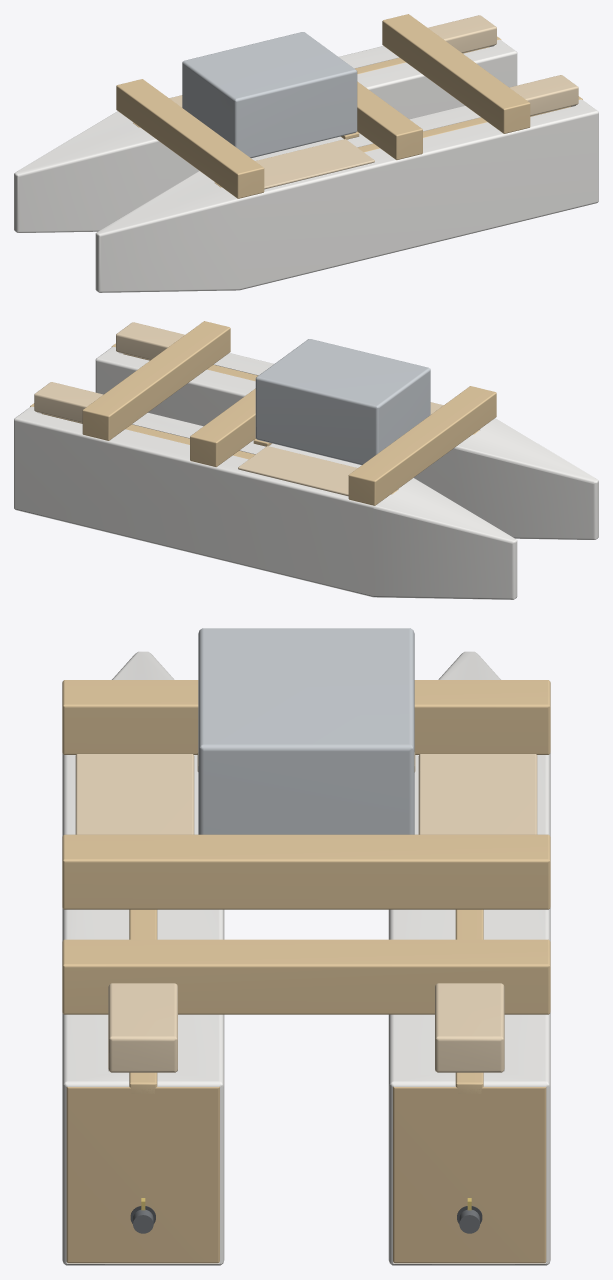
The model's file is sailsafe.glb.
3 renders of one model, top to bottom at view 1: azimuth 30°, elevation 25°; view 2: azimuth 150°, elevation 25°; view 3: azimuth 270°, elevation 25°, orthographic. The views are drawn at different scales.
Parts seen in each view (by area): view 1: casco_esquerdo, casco_direito, caixa_IP66, travessa_T1, travessa_T3, escotilha_esq, travessa_T2, cobertura_ESC_esq, cobertura_ESC_dir, longarina_re_esq, longarina_re_dir; view 2: casco_direito, casco_esquerdo, caixa_IP66, travessa_T1, travessa_T3, escotilha_dir, travessa_T2, cobertura_ESC_dir, cobertura_ESC_esq, longarina_re_dir, longarina_re_esq; view 3: caixa_IP66, travessa_T2, travessa_T3, transom_insert_esq, transom_insert_dir, travessa_T1, casco_direito, casco_esquerdo, escotilha_dir, escotilha_esq, cobertura_ESC_dir, cobertura_ESC_esq (+2 smaller).
Part boxes in pixels (box(x1,y1,x2,y2)): casco_esquerdo: box(95, 99, 598, 292); casco_direito: box(14, 39, 517, 232); caixa_IP66: box(182, 32, 357, 158); travessa_T1: box(116, 79, 264, 198); travessa_T3: box(382, 14, 530, 133); escotilha_esq: box(255, 139, 374, 189); travessa_T2: box(357, 81, 422, 160); cobertura_ESC_esq: box(509, 75, 578, 115); cobertura_ESC_dir: box(428, 15, 496, 52); longarina_re_esq: box(358, 96, 582, 152); longarina_re_dir: box(355, 36, 501, 74); casco_direito: box(14, 406, 517, 599); casco_esquerdo: box(95, 346, 598, 539); caixa_IP66: box(255, 339, 430, 465); travessa_T1: box(348, 386, 496, 505); travessa_T3: box(82, 321, 230, 440); escotilha_dir: box(238, 446, 357, 496); travessa_T2: box(190, 388, 255, 467); cobertura_ESC_dir: box(34, 382, 103, 422); cobertura_ESC_esq: box(116, 322, 184, 359); longarina_re_dir: box(30, 403, 254, 459); longarina_re_esq: box(111, 343, 257, 381); caixa_IP66: box(198, 628, 414, 834); travessa_T2: box(62, 834, 550, 909); travessa_T3: box(62, 939, 550, 1014); transom_insert_esq: box(66, 1086, 219, 1263); transom_insert_dir: box(393, 1086, 546, 1263); travessa_T1: box(62, 680, 550, 754); casco_direito: box(388, 651, 550, 1265); casco_esquerdo: box(62, 651, 224, 1265); escotilha_dir: box(418, 754, 537, 834); escotilha_esq: box(75, 754, 194, 834); cobertura_ESC_dir: box(435, 983, 504, 1072); cobertura_ESC_esq: box(108, 983, 177, 1072).
Size of the model in its own units: 0.8122 by 0.252 by 0.35.
